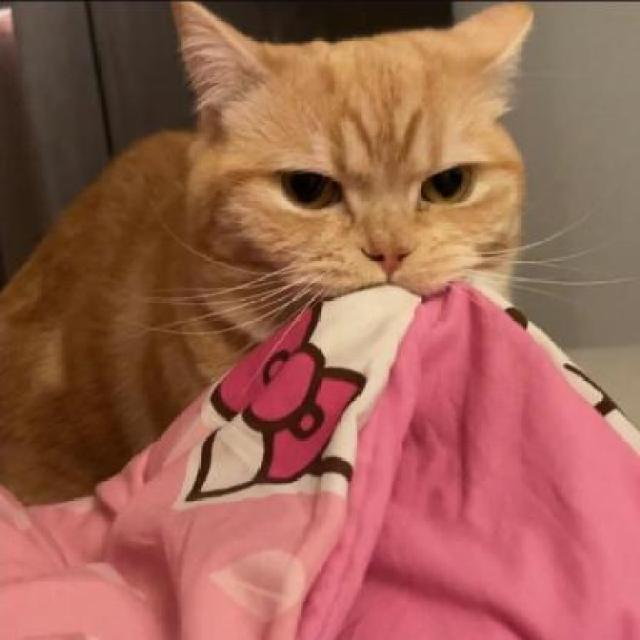cat: (140, 1, 534, 324)
